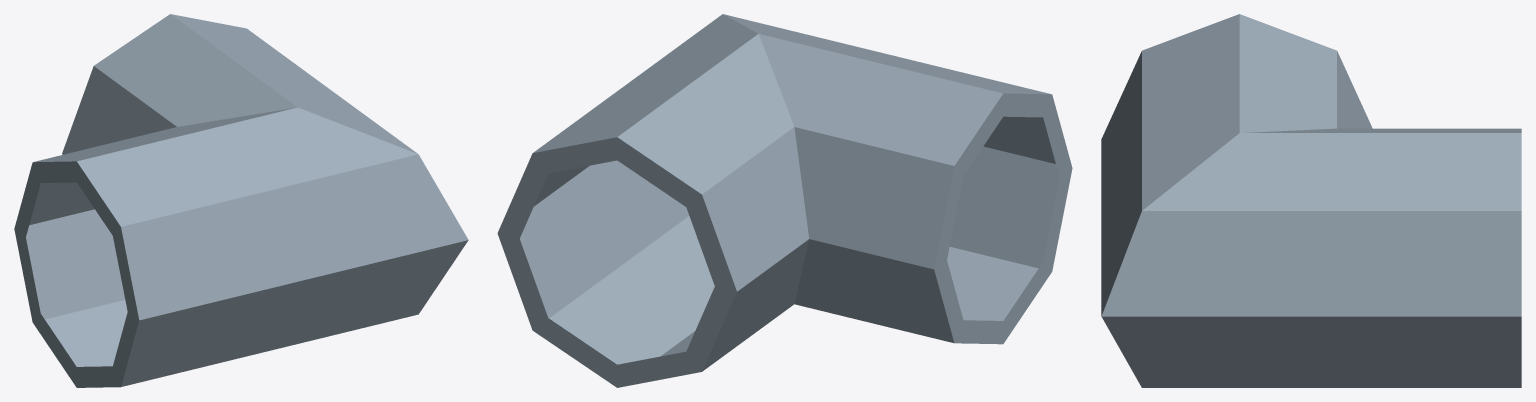
Rendered from pipecorner.glb.
The picture shows the model from 3 angles, left to right: view 1: azimuth 30°, elevation 25°; view 2: azimuth 150°, elevation 25°; view 3: azimuth 270°, elevation 25°; orthographic projection. The views are drawn at different scales.
Parts seen in each view (by area): view 1: pipeCorner; view 2: pipeCorner; view 3: pipeCorner.
Part boxes in pixels (bbox=[...]): pipeCorner: bbox=[14, 14, 468, 387]; pipeCorner: bbox=[497, 14, 1072, 387]; pipeCorner: bbox=[1101, 14, 1521, 387].
Size of the model in its own units: 7.45 by 4.9 by 7.45.
